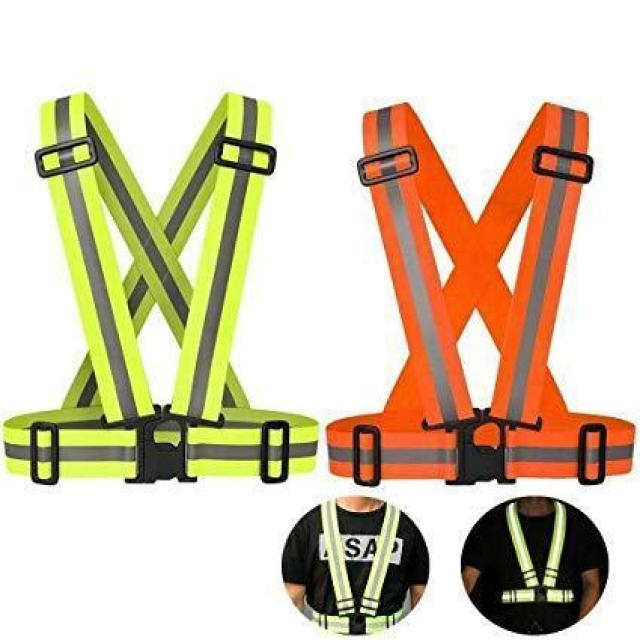Vest: (3, 86, 322, 488), (321, 96, 635, 485)
